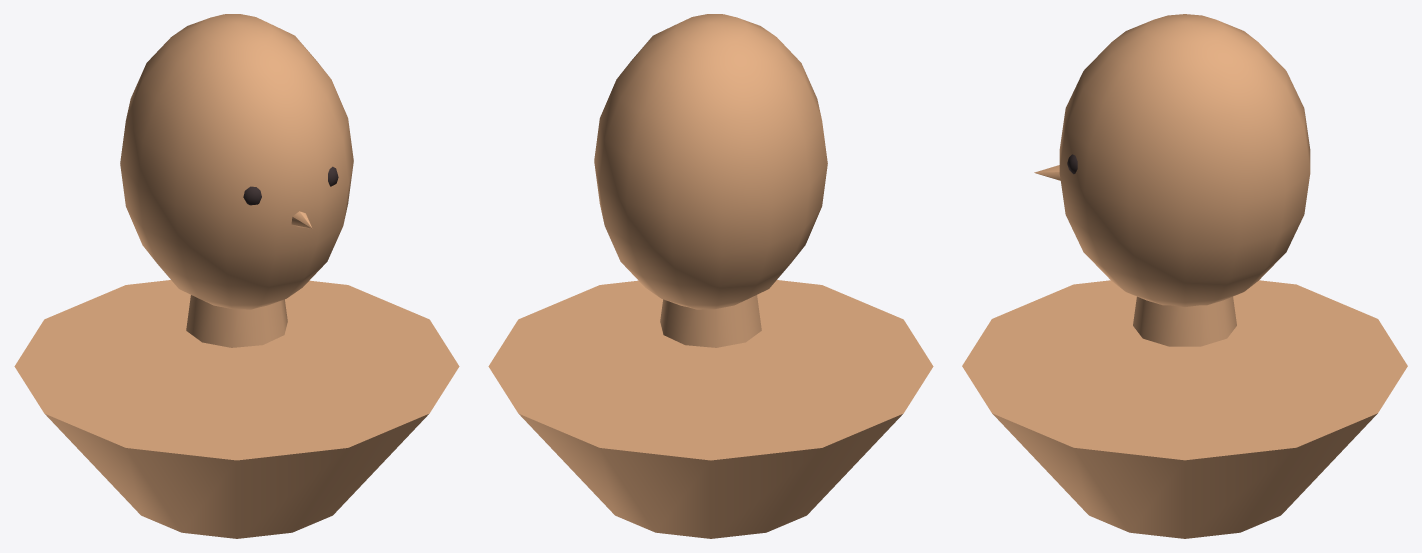
Rendered from portrait15m_001.glb.
3 views of the same model, side by side, from view 1: azimuth 30°, elevation 25°; view 2: azimuth 150°, elevation 25°; view 3: azimuth 270°, elevation 25° (orthographic).
Bounding box in the file's own units: 1.8 × 2.09 × 1.8.
